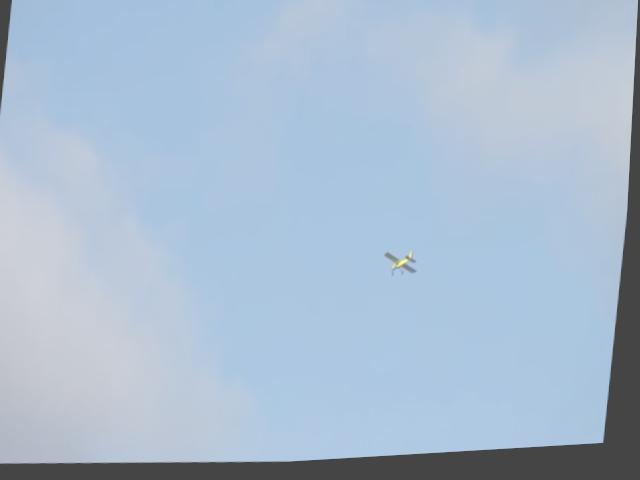plane: (385, 255, 422, 283)
